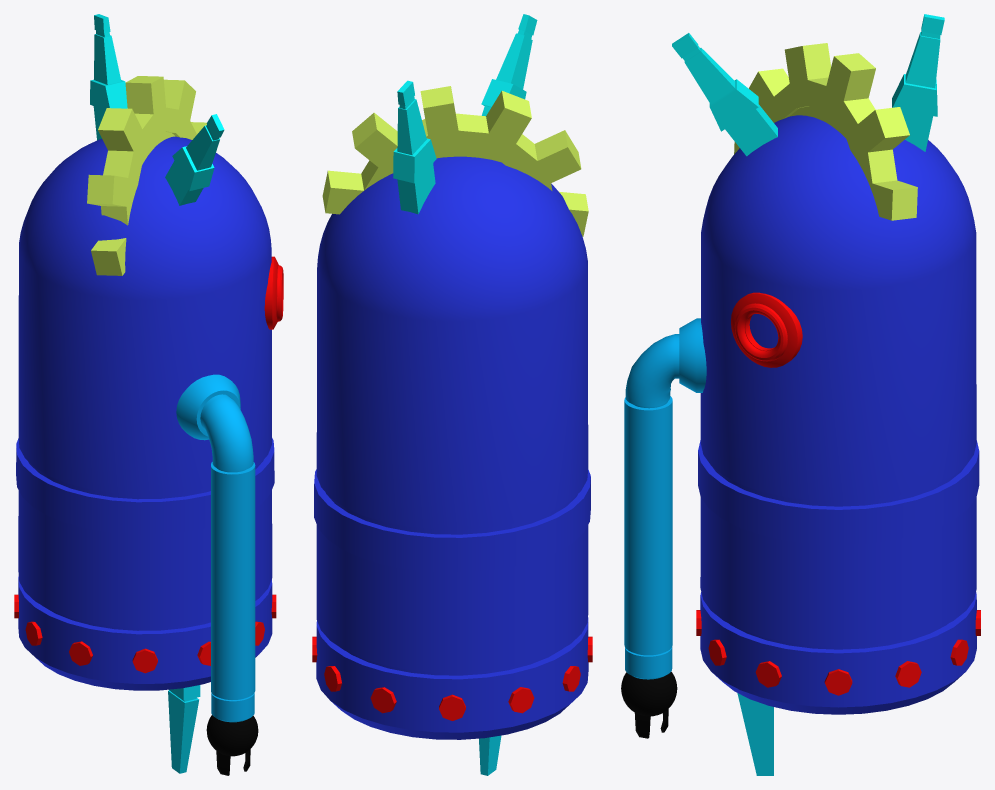
File: petit robo.glb
The picture shows the model from 3 angles, left to right: view 1: azimuth 30°, elevation 25°; view 2: azimuth 150°, elevation 25°; view 3: azimuth 270°, elevation 25°; orthographic projection. The views are drawn at different scales.
Parts seen in each view (by area): view 1: Sphere, Cylinder, Cylinder.002, Cube, Cube.001, Cylinder.001, Sphere.001, Cylinder.003, Cylinder.008; view 2: Sphere, Cylinder.002, Cube.001, Cube, Cylinder.001, Cylinder.012, Cylinder.013, Cylinder.011; view 3: Sphere, Cylinder, Cylinder.002, Cube, Cube.001, Cylinder.003, Sphere.001, Cylinder.001.
Boxes of the visible parts, left/top/right/bottom form: Sphere: left=16, top=136, right=274, bottom=690; Cylinder: left=176, top=374, right=255, bottom=722; Cylinder.002: left=87, top=76, right=206, bottom=275; Cube: left=165, top=114, right=224, bottom=205; Cube.001: left=90, top=14, right=127, bottom=140; Cylinder.001: left=168, top=685, right=200, bottom=773; Sphere.001: left=206, top=715, right=258, bottom=775; Cylinder.003: left=264, top=256, right=283, bottom=329; Cylinder.008: left=132, top=648, right=157, bottom=673; Sphere: left=314, top=156, right=590, bottom=739; Cylinder.002: left=322, top=86, right=588, bottom=236; Cube.001: left=393, top=80, right=436, bottom=214; Cube: left=481, top=14, right=537, bottom=116; Cylinder.001: left=479, top=735, right=501, bottom=775; Cylinder.012: left=439, top=694, right=465, bottom=720; Cylinder.013: left=370, top=687, right=396, bottom=713; Cylinder.011: left=508, top=687, right=534, bottom=713; Sphere: left=698, top=115, right=979, bottom=714; Cylinder: left=624, top=318, right=706, bottom=679; Cylinder.002: left=734, top=43, right=917, bottom=220; Cube: left=672, top=33, right=777, bottom=156; Cube.001: left=892, top=14, right=944, bottom=151; Cylinder.003: left=731, top=292, right=802, bottom=367; Sphere.001: left=621, top=671, right=677, bottom=738; Cylinder.001: left=737, top=693, right=773, bottom=775.
Bounding box in the file's own units: 2.06 × 6.05 × 2.6.
